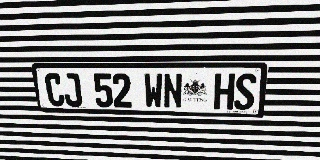2: (112, 73, 132, 108)
5: (93, 73, 114, 107)
C: (44, 73, 65, 106)
H: (213, 73, 235, 110)
J: (61, 73, 83, 107)
N: (163, 73, 182, 109)
S: (234, 73, 257, 110)
W: (143, 73, 163, 108)
